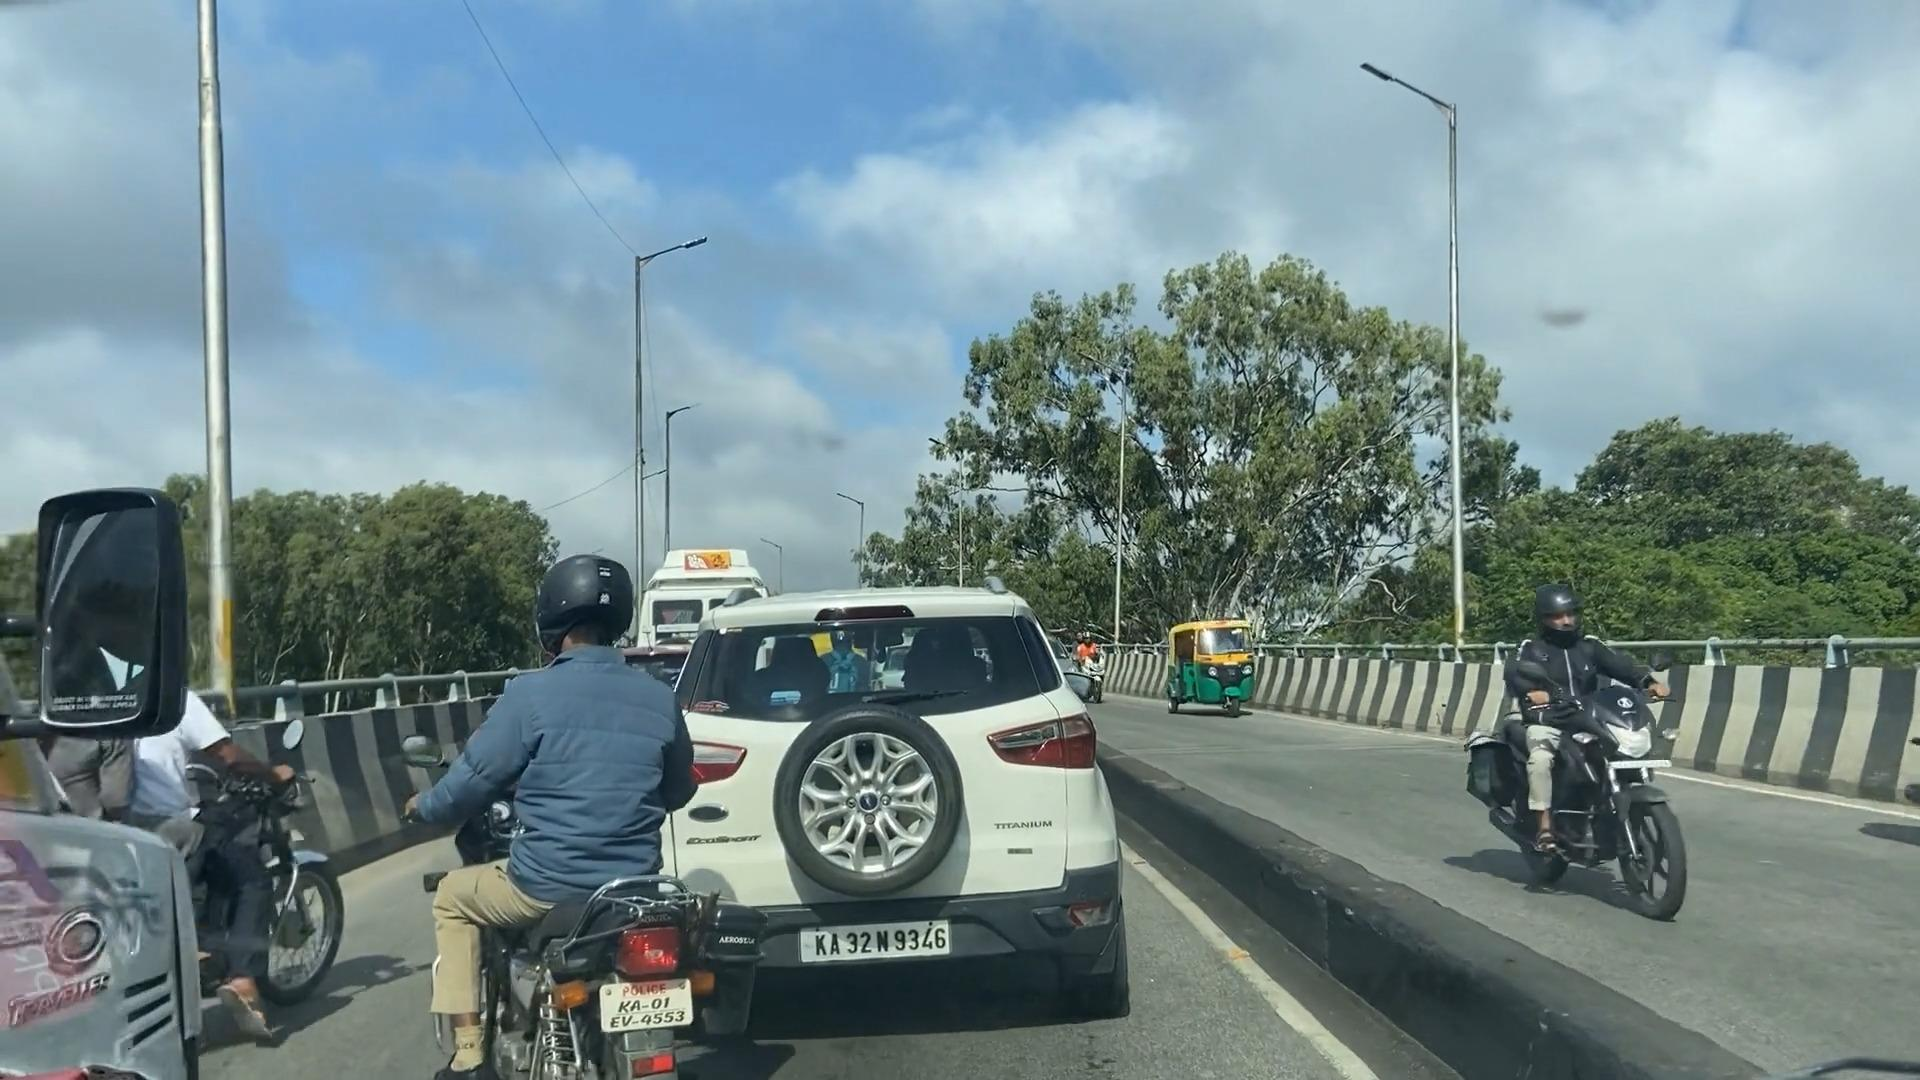LMV: (687, 591, 1125, 1005), (442, 554, 713, 1080)
